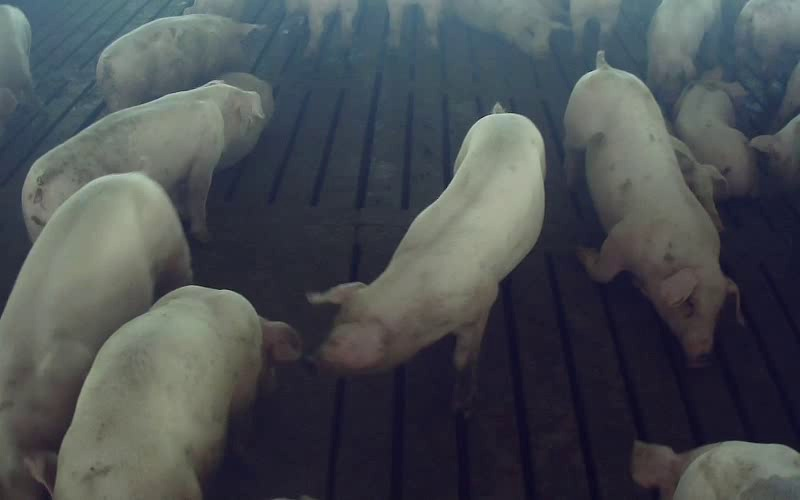pig: (309, 105, 544, 415), (0, 174, 190, 499), (564, 52, 734, 363), (55, 286, 301, 499), (22, 82, 264, 239), (97, 14, 261, 111), (675, 67, 755, 195)
